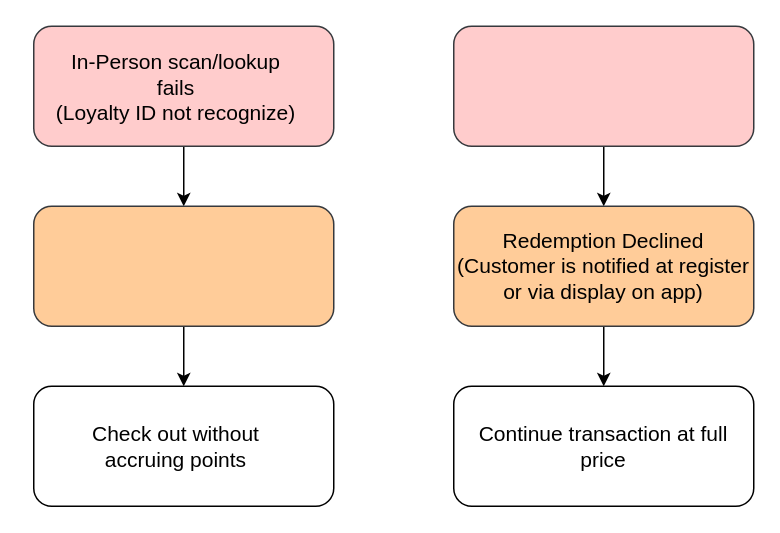
Image size: 780x533. Some labels were removed from this diagram. The centre of each missing label's shape, as x and y in pixels:
"Manual Lookup (Enter phone number or email)" goes at point 183,265.
"Reward Redemption Fails (Points threshold not met)" goes at point 603,85.
